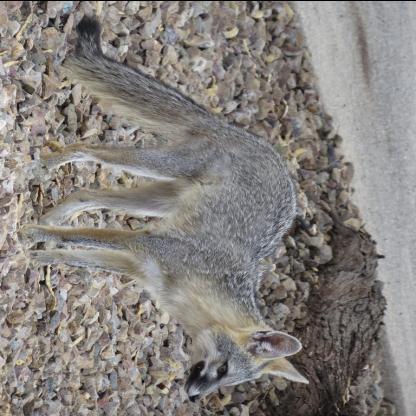zorro: (16, 9, 316, 402)
